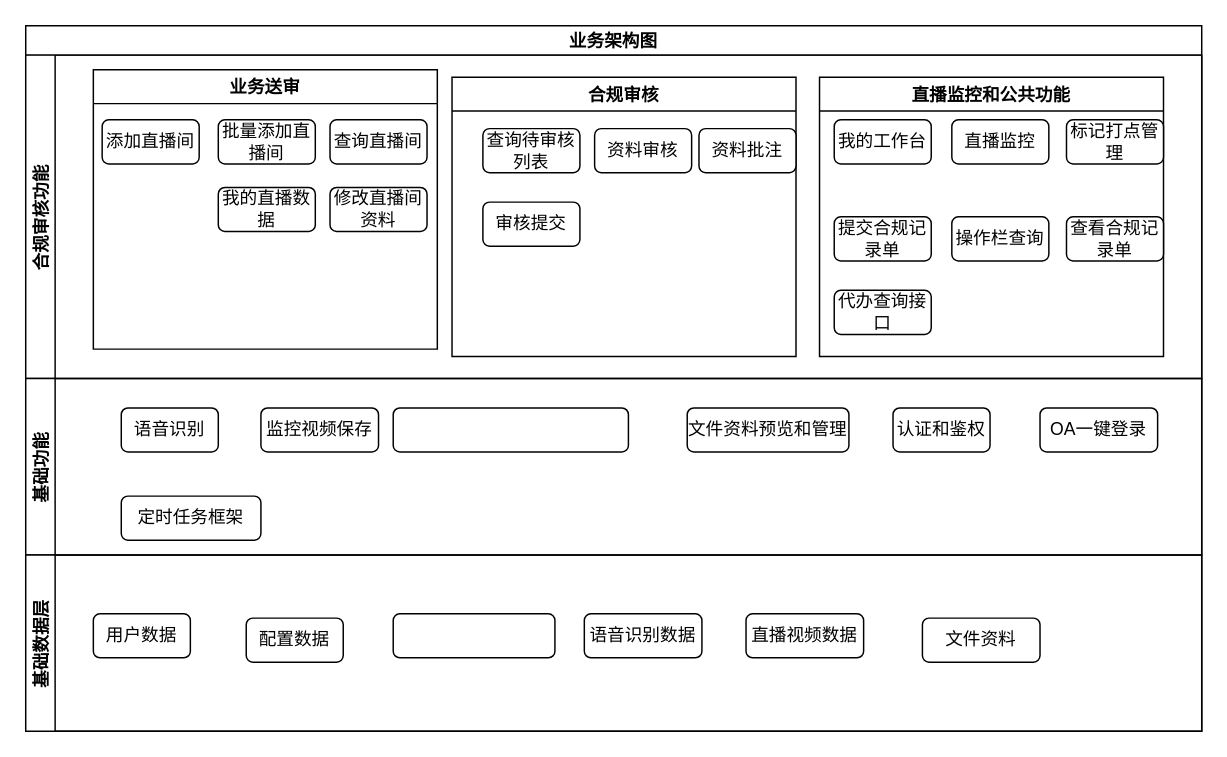
Image size: 1227x757. Some labels were removed from this diagram. Each missing label, with the centre of its shape:
"同步监控平台信息到欢句云" goes at (510,429).
"直播间申请单数据" goes at (473,635).
